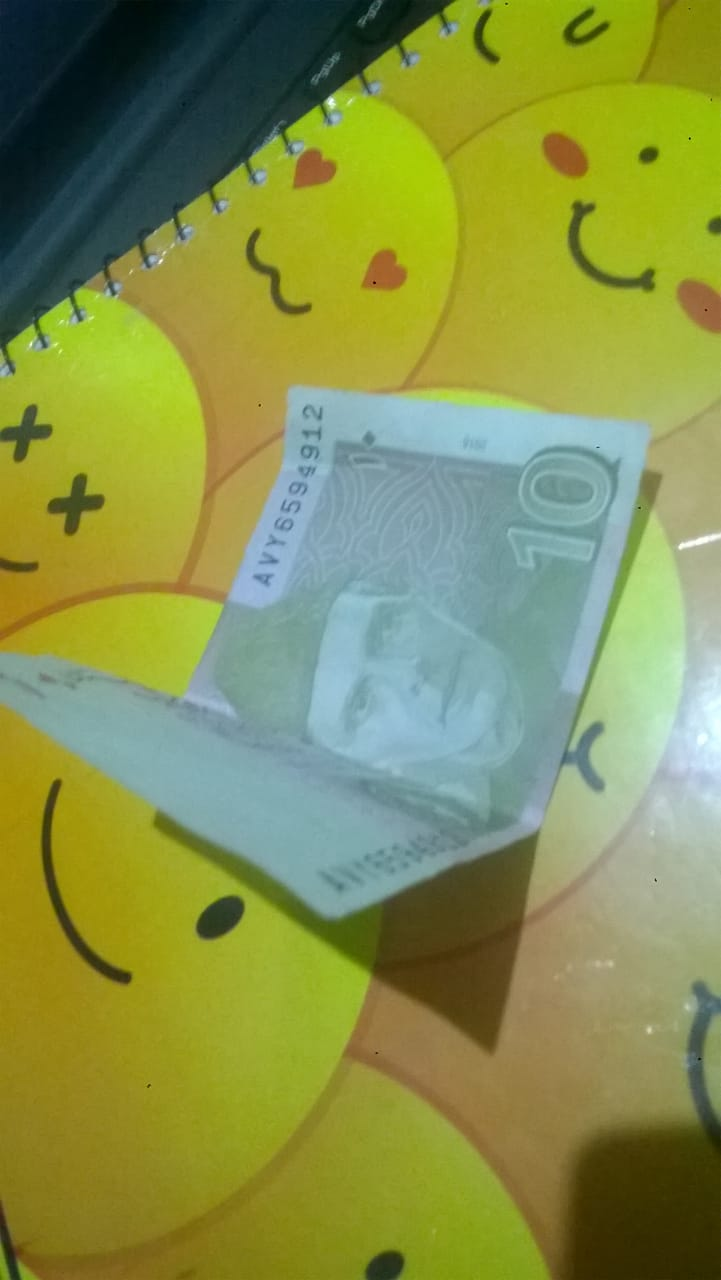10 rupee: (9, 365, 655, 923)
